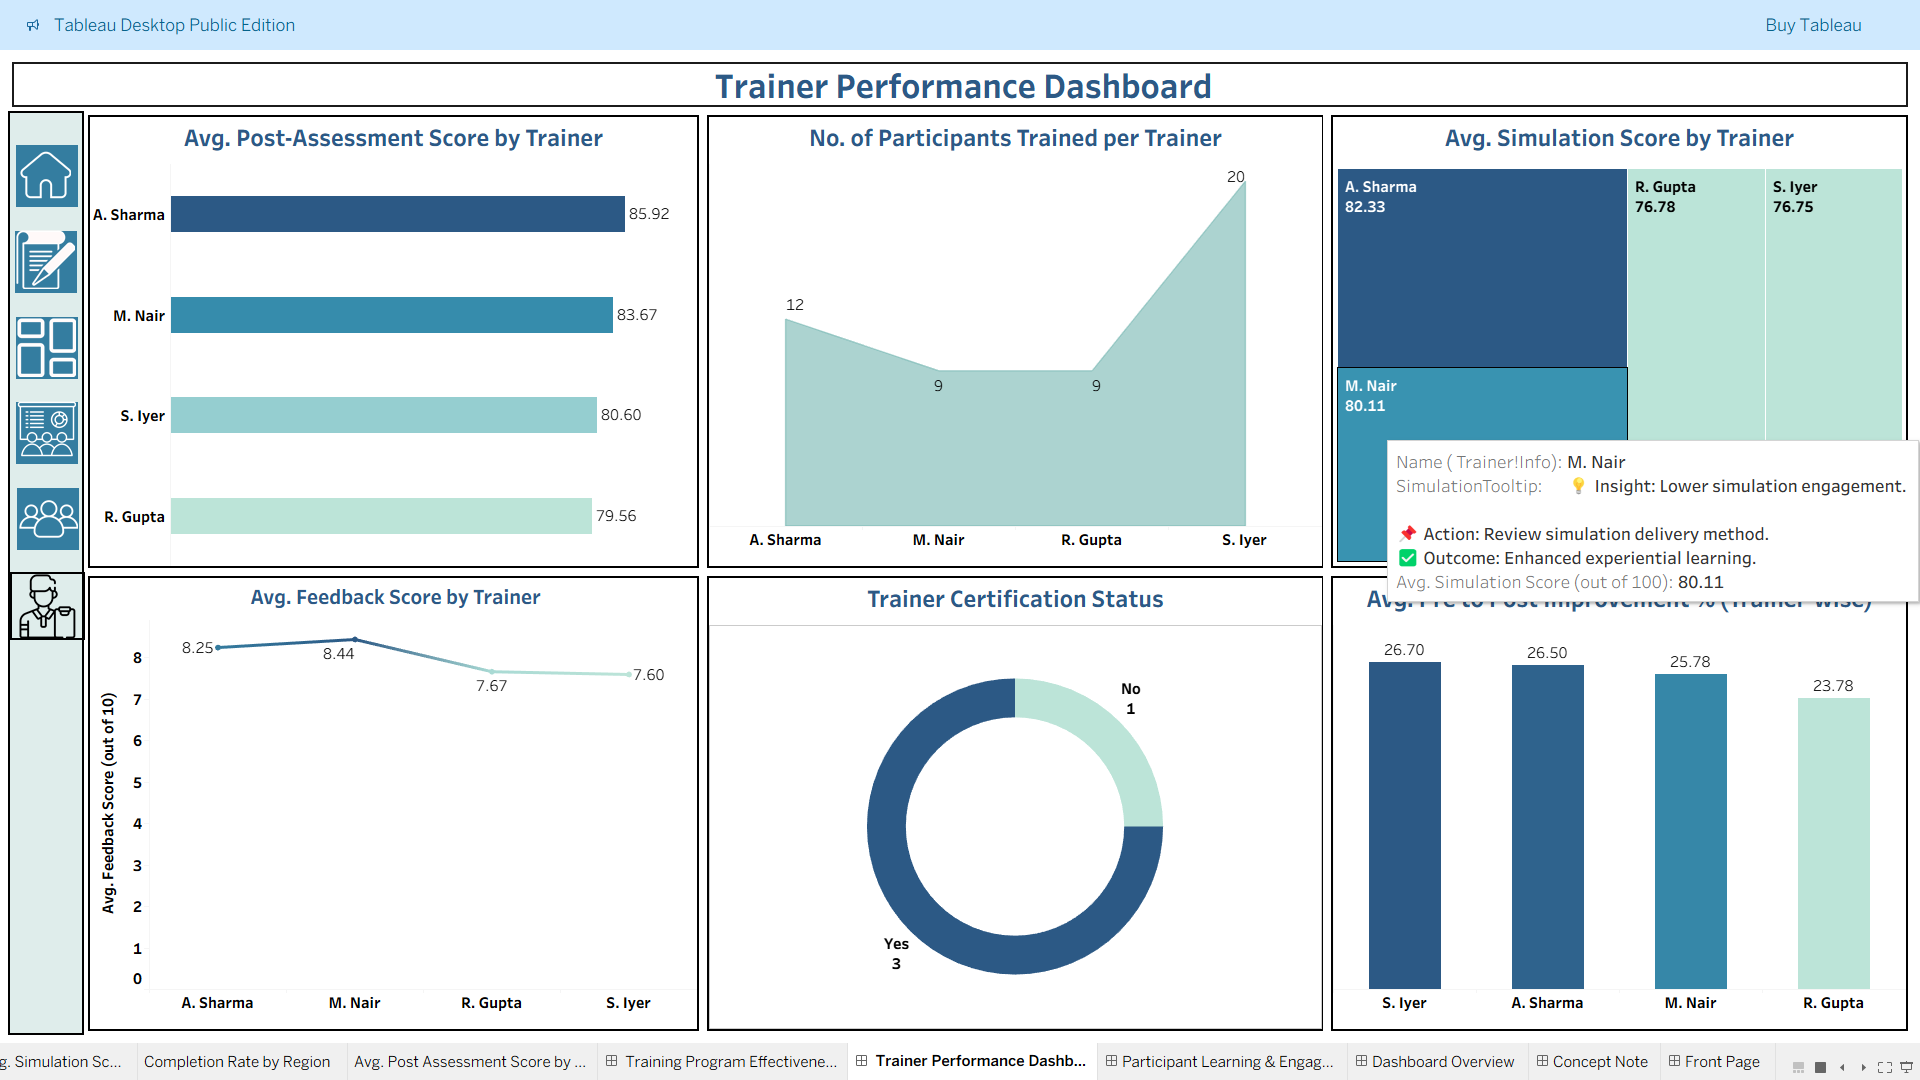

The dashboard page shown, as its layout file describes it:
{"tool":"tableau","page":{"name":" Trainer Performance Dashboard","canvas":[1000,1000],"units":"permille","ordinal":0},"visuals":[{"type":"title","box":[4.2,8.1,991.7,53.4]},{"type":"worksheet","title":"Avg. Post-Assessment Score by Trainer","mark":"Automatic","rows":["Name ( Trainer!Info)"],"cols":["Post_Assessment (%)"],"box":[43.6,61.4,322.4,464.1]},{"type":"worksheet","title":"No. of Participants Trained per Trainer","mark":"Area","rows":["Participant_ID (Training!Attendance )"],"cols":["Name ( Trainer!Info)"],"box":[366,61.4,325.4,464.1]},{"type":"worksheet","title":"Avg. Simulation Score by Trainer","mark":"Automatic","box":[691.4,61.4,304.4,464.1]},{"type":"image","param":"Image/Untitled design.jpg","box":[8.2,96.1,32.4,62.4]},{"type":"dashboard-object","box":[8.8,99.9,30.1,51.2]},{"type":"dashboard-object","box":[8.2,179.8,30.7,61.2]},{"type":"image","param":"Image/Untitled design.jpg","box":[7.7,182.3,32.4,62.4]},{"type":"image","param":"Image/Untitled design.jpg","box":[8.2,268.4,32.4,62.4]},{"type":"dashboard-object","box":[8.8,268.4,30.7,61.2]},{"type":"dashboard-object","box":[8.8,349.6,30.7,64.9]},{"type":"image","param":"Image/Untitled design.jpg","box":[8.2,354.6,32.4,62.4]},{"type":"image","param":"Image/Untitled design.jpg","box":[8.8,440.7,32.4,62.4]},{"type":"dashboard-object","box":[10,440.7,30.7,61.2]},{"type":"dashboard-object","box":[5.3,525.6,38.9,68.7]},{"type":"worksheet","title":" Avg. Feedback Score by Trainer","mark":"Line","rows":["Feedback_Score (out of 10)"],"cols":["Name ( Trainer!Info)"],"box":[43.6,525.6,322.3,466.4]},{"type":"worksheet","title":"Trainer Certification Status","mark":"Pie","rows":["Calculation_1273392826733621249","Calculation_1273392826733621249"],"box":[365.9,525.6,325.4,466.4]},{"type":"worksheet","title":"Avg. Pre to Post Improvement % (Trainer-wise)","mark":"Automatic","rows":["Calculation_1120833389332942849"],"cols":["Name ( Trainer!Info)"],"box":[691.3,525.6,304.5,466.4]}]}

Visuals, with their boxes on the dashboard's canvas, which has no fixed pixel size, in thousandths of its width and height (x1, y1, x2, y2). These are canvas units, not pixel positions in the 1920x1080 screenshot, which may show the page scaled, cropped or inside an application window:
title: <region>4, 8, 996, 62</region>
"Avg. Post-Assessment Score by Trainer" worksheet: <region>44, 61, 366, 526</region>
"No. of Participants Trained per Trainer" worksheet (Area marks): <region>366, 61, 691, 526</region>
"Avg. Simulation Score by Trainer" worksheet: <region>691, 61, 996, 526</region>
image: <region>8, 96, 41, 158</region>
dashboard-object: <region>9, 100, 39, 151</region>
dashboard-object: <region>8, 180, 39, 241</region>
image: <region>8, 182, 40, 245</region>
image: <region>8, 268, 41, 331</region>
dashboard-object: <region>9, 268, 40, 330</region>
dashboard-object: <region>9, 350, 40, 414</region>
image: <region>8, 355, 41, 417</region>
image: <region>9, 441, 41, 503</region>
dashboard-object: <region>10, 441, 41, 502</region>
dashboard-object: <region>5, 526, 44, 594</region>
" Avg. Feedback Score by Trainer" worksheet (Line marks): <region>44, 526, 366, 992</region>
"Trainer Certification Status" worksheet (Pie marks): <region>366, 526, 691, 992</region>
"Avg. Pre to Post Improvement % (Trainer-wise)" worksheet: <region>691, 526, 996, 992</region>
